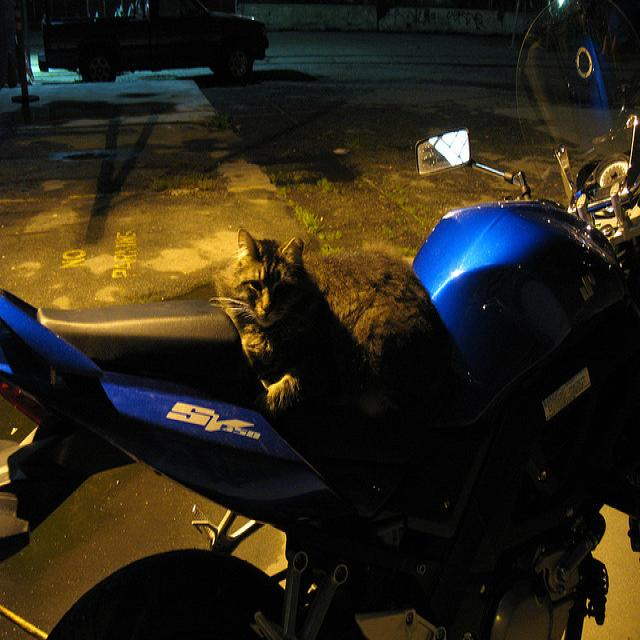Cat: (221, 212, 462, 495)
Motorbike: (0, 39, 640, 640)
car: (18, 0, 282, 113)
